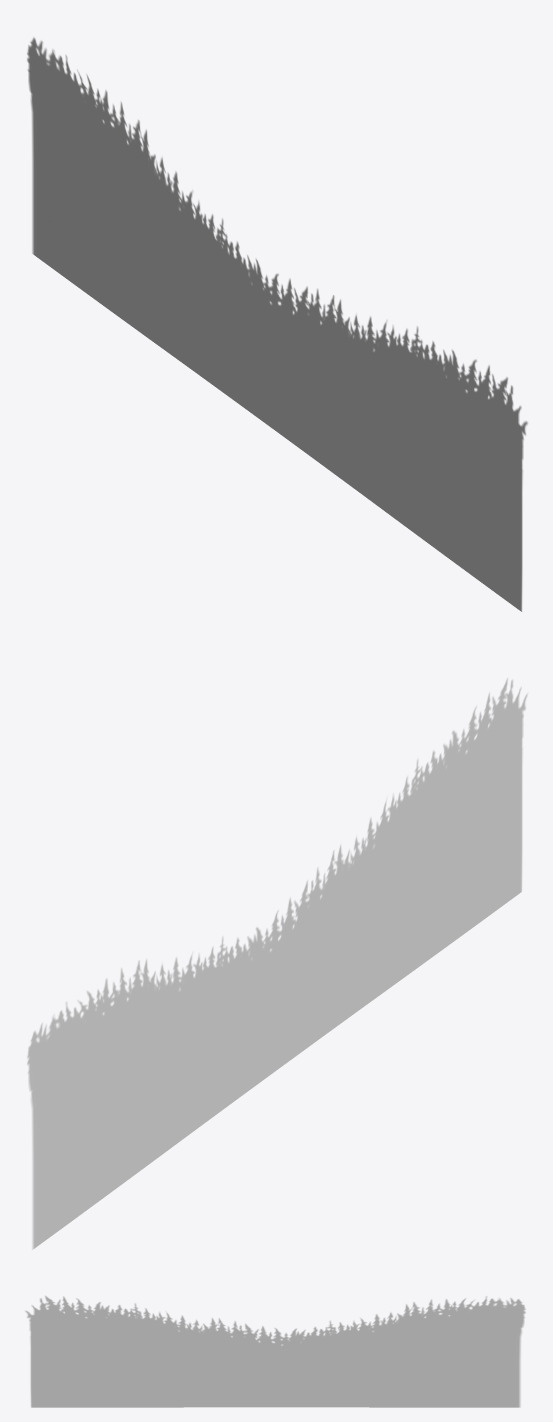
The picture shows the model from 3 angles, top to bottom: view 1: azimuth 30°, elevation 25°; view 2: azimuth 150°, elevation 25°; view 3: azimuth 270°, elevation 25°; orthographic projection. The views are drawn at different scales.
Visible parts, largest first — view 1: body0_model0_lod0_mesh0; view 2: body0_model0_lod0_mesh0; view 3: body0_model0_lod0_mesh0.
Part boxes in pixels (x1,y1,x2,y2): body0_model0_lod0_mesh0: [27, 37, 527, 611]; body0_model0_lod0_mesh0: [27, 678, 527, 1249]; body0_model0_lod0_mesh0: [25, 1295, 525, 1407].
Size of the model in its own units: 0 by 124 by 512.
Materials: 1 (1 with a texture image).
